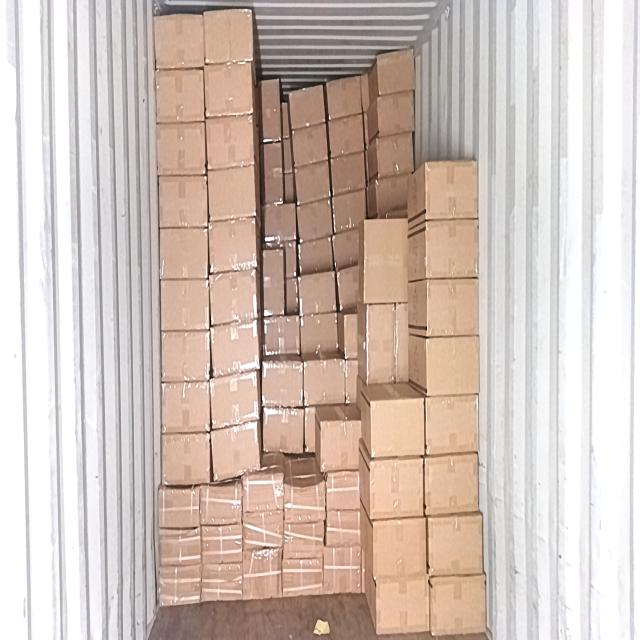carton: (364, 218, 408, 302), (428, 514, 484, 578), (372, 457, 424, 521), (425, 454, 479, 515), (426, 335, 480, 395), (427, 218, 480, 278), (430, 577, 486, 633), (426, 160, 478, 220), (373, 520, 428, 576), (371, 400, 425, 456), (376, 577, 429, 634), (428, 279, 478, 336), (425, 398, 482, 448), (211, 423, 259, 481), (154, 14, 206, 66), (204, 8, 252, 64), (158, 174, 208, 227), (156, 120, 206, 173), (161, 382, 210, 436), (211, 373, 259, 428), (160, 329, 210, 381), (155, 68, 205, 120), (208, 166, 256, 220), (210, 218, 256, 274), (208, 114, 254, 169), (212, 270, 257, 326), (160, 279, 210, 329), (161, 434, 209, 486), (211, 320, 257, 373), (159, 228, 208, 277), (205, 63, 252, 113), (367, 302, 394, 384), (262, 408, 306, 455), (321, 422, 361, 471), (304, 360, 346, 406), (241, 550, 281, 598), (262, 363, 304, 408), (324, 546, 361, 594), (379, 90, 415, 139), (285, 482, 326, 525), (300, 270, 338, 316), (157, 488, 200, 528), (242, 472, 284, 512), (301, 314, 340, 357), (242, 473, 284, 512), (245, 509, 283, 552), (201, 486, 241, 526), (202, 524, 243, 563), (262, 316, 300, 358), (378, 133, 414, 177), (157, 528, 202, 563), (202, 562, 242, 601), (328, 72, 362, 117), (284, 523, 325, 560), (297, 158, 331, 202), (292, 123, 329, 163), (329, 116, 364, 158), (158, 566, 202, 599), (378, 52, 414, 92), (298, 197, 333, 237), (290, 85, 324, 126), (264, 248, 285, 314), (334, 188, 366, 230), (284, 560, 322, 594), (263, 205, 297, 242), (261, 77, 280, 143), (378, 175, 407, 218), (332, 156, 367, 191), (264, 141, 283, 205), (327, 509, 361, 544), (326, 476, 360, 508), (334, 234, 363, 268), (298, 243, 334, 270), (339, 267, 361, 307)
